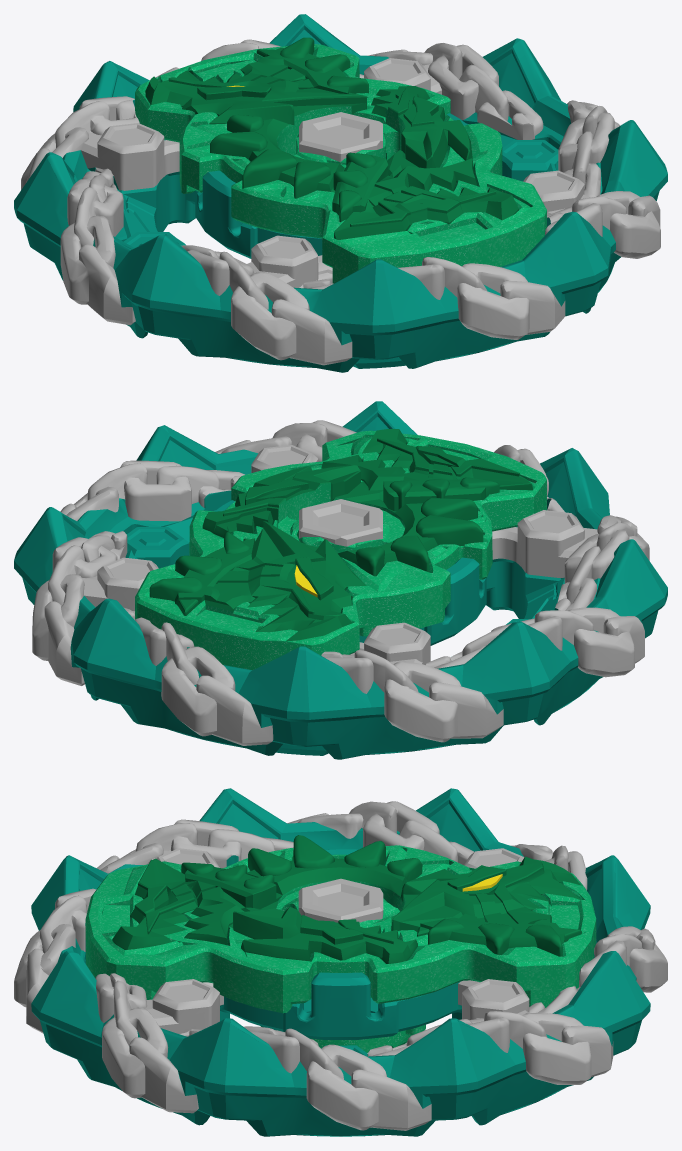
Rendered from kerbeusk5shieldgeo.fbx.
3 renders of one model, top to bottom at view 1: azimuth 30°, elevation 25°; view 2: azimuth 150°, elevation 25°; view 3: azimuth 270°, elevation 25°, orthographic.
Visible parts, largest first — view 1: ShieldKerbeusK5_Layer; view 2: ShieldKerbeusK5_Layer; view 3: ShieldKerbeusK5_Layer.
Boxes of the visible parts, x1,y1,x2,y2 form: ShieldKerbeusK5_Layer: (14, 14, 667, 372); ShieldKerbeusK5_Layer: (14, 401, 667, 759); ShieldKerbeusK5_Layer: (14, 788, 667, 1136).
Bounding box in the file's own units: 0.5738 × 0.1348 × 0.5738.
2 materials, 2 textured.
